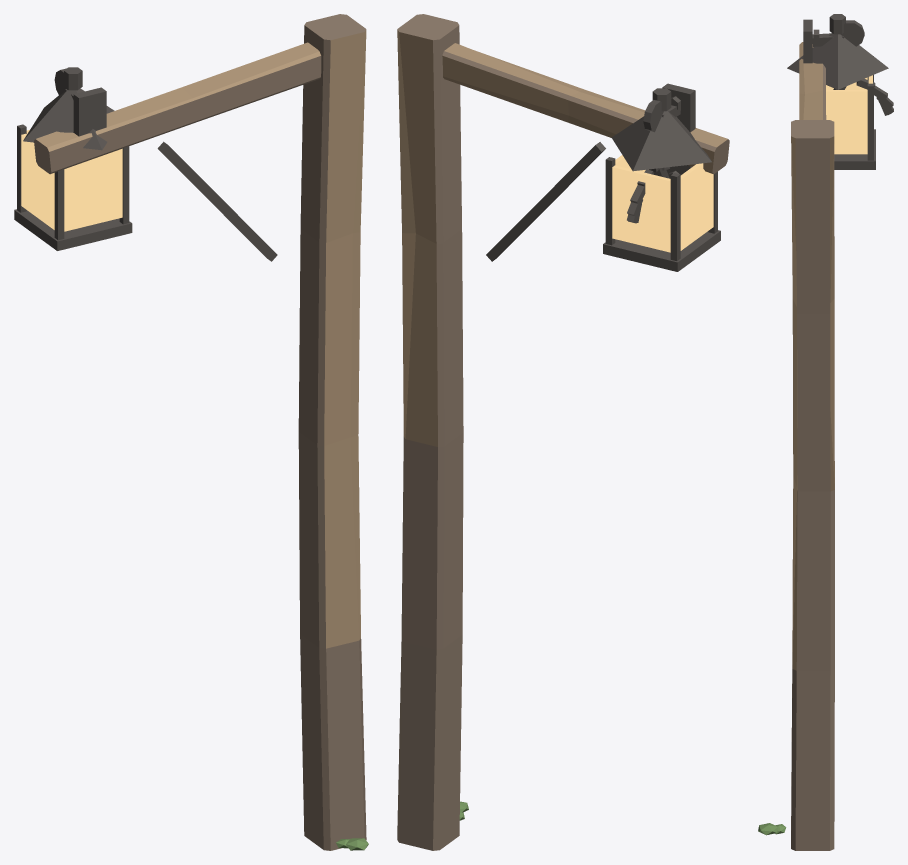
Rendered from hanging_lantern.glb.
3 renders of one model, left to right at view 1: azimuth 30°, elevation 25°; view 2: azimuth 150°, elevation 25°; view 3: azimuth 270°, elevation 25°, orthographic. The views are drawn at different scales.
Visible parts, largest first — view 1: hanging_lantern; view 2: hanging_lantern; view 3: hanging_lantern.
Boxes of the visible parts, x1,y1,x2,y2 form: hanging_lantern: (14,14,368,850); hanging_lantern: (397,14,729,850); hanging_lantern: (758,14,893,850).
Size of the model in its own units: 1.03 by 2.52 by 0.4321.
